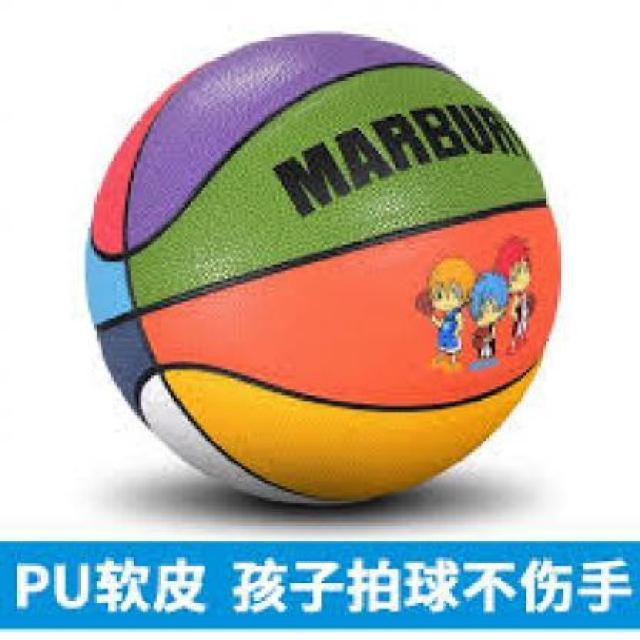basketball: (87, 33, 561, 507)
